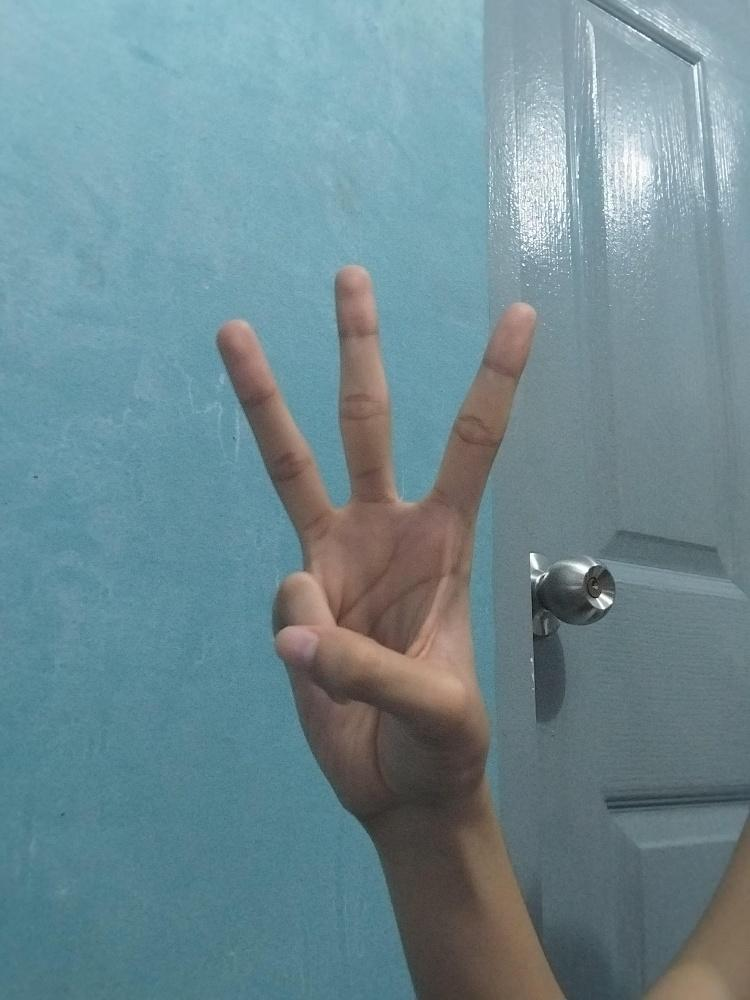w: (215, 259, 537, 808)
